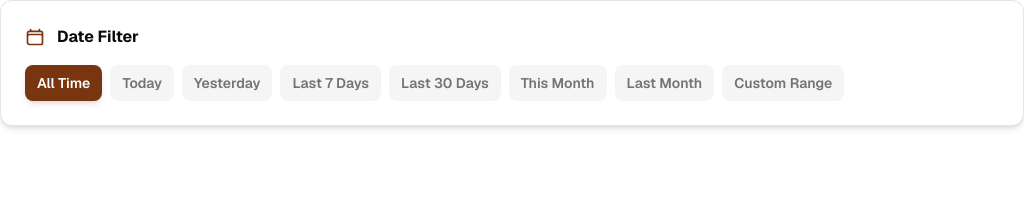
DateRangePicker Component › Preset Selection › should show date range display when preset is selected
Click the button "Yesterday".
click(227, 83)  # box [182,65,272,101]
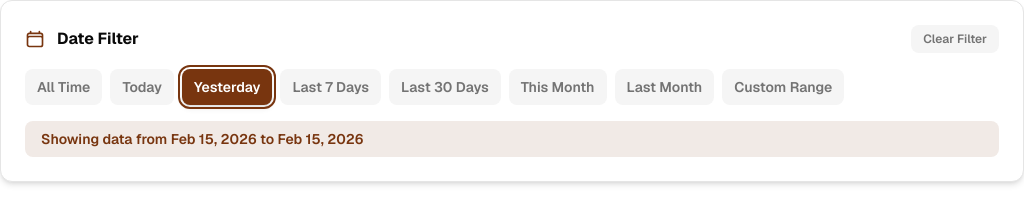
Expected: the text "Showing data from Feb 15, 2026 to Feb 15, 2026" is shown, [25,121,999,157]
